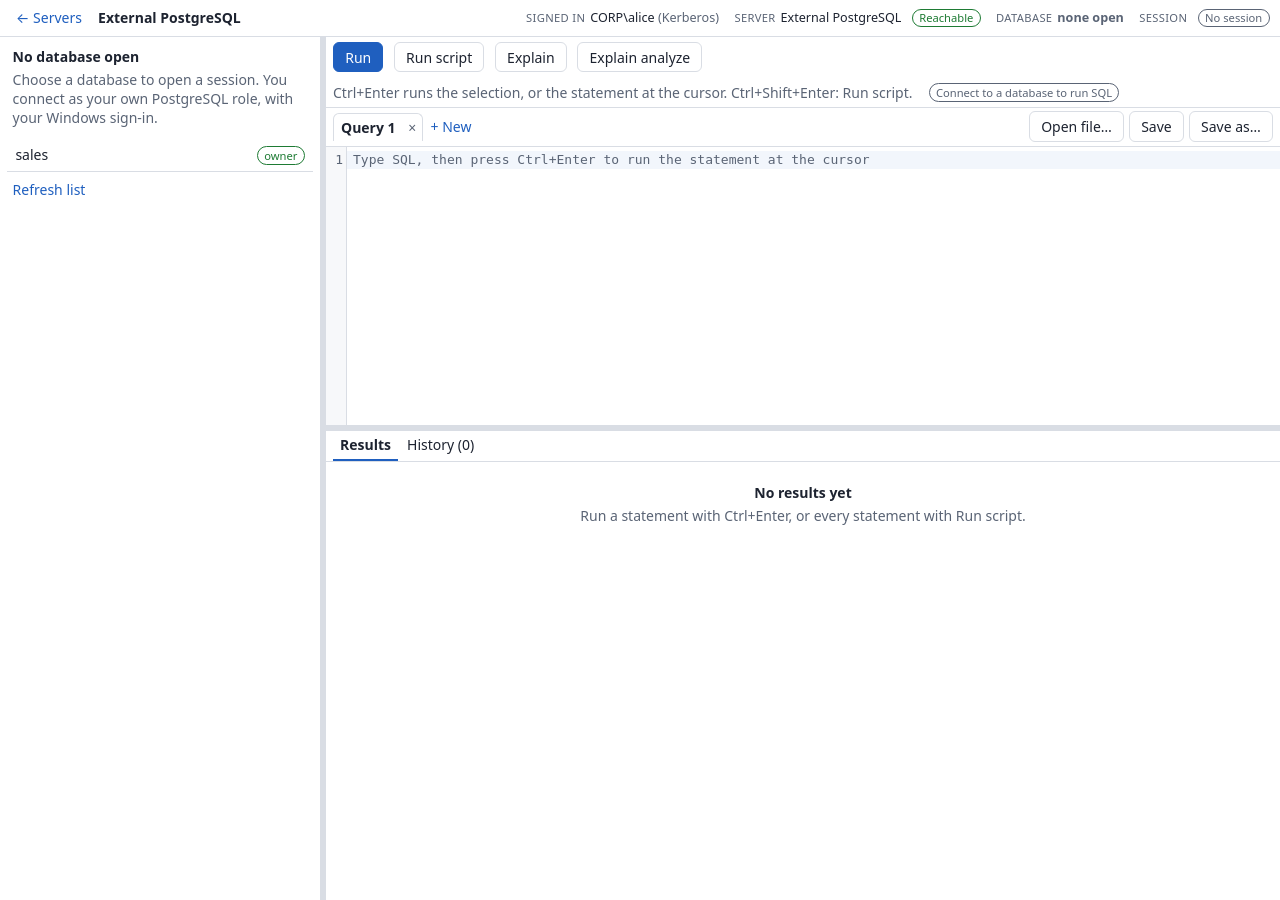
Workspace administration (admin Phase 3) › an EXPLAIN typed by the user is sent as written
Click the button "sales owner": (32, 155) [7, 139, 313, 172]
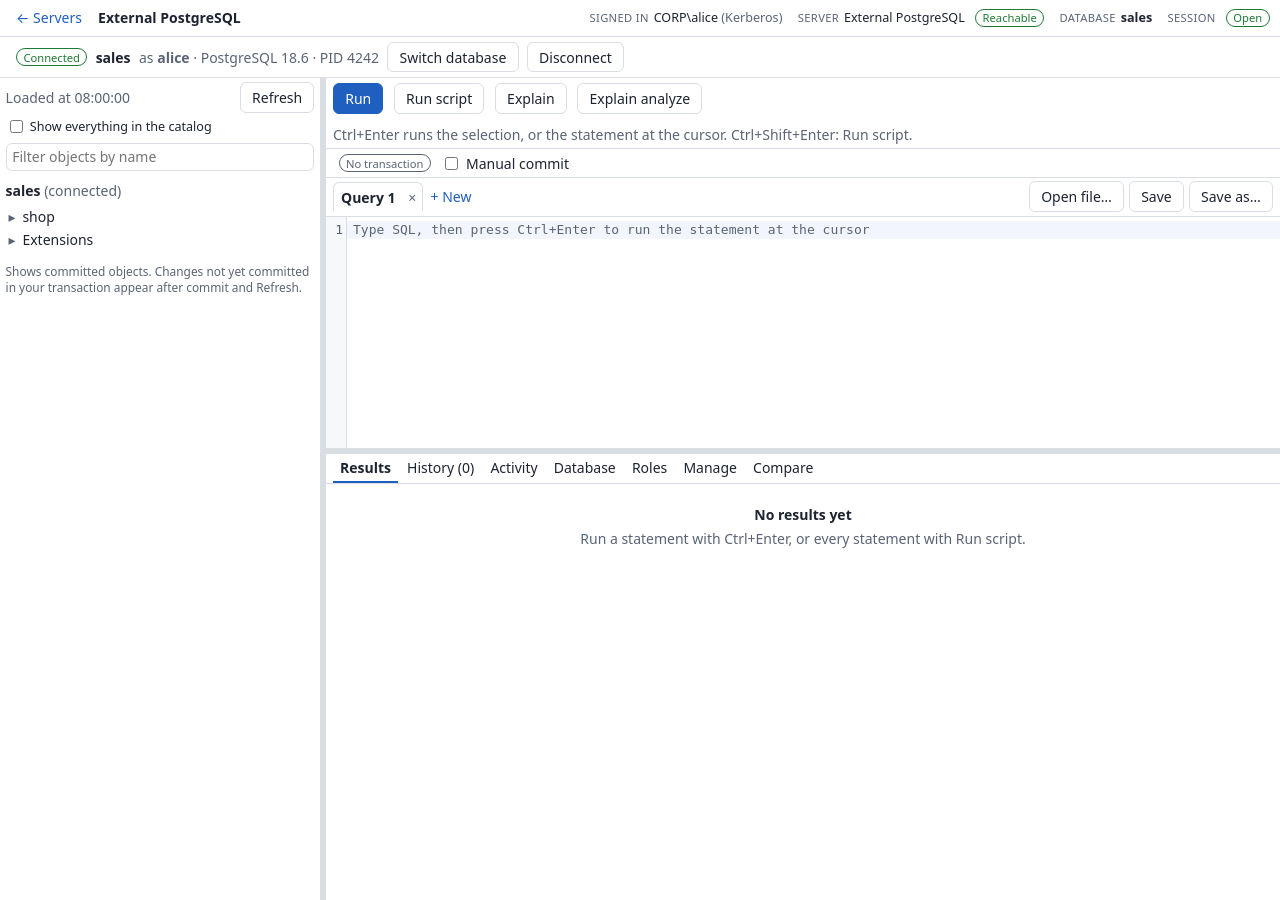
Now the button "Switch database" is shown, box [387, 42, 518, 72]
Click the field named "SQL editor": (814, 230) [347, 221, 1279, 239]
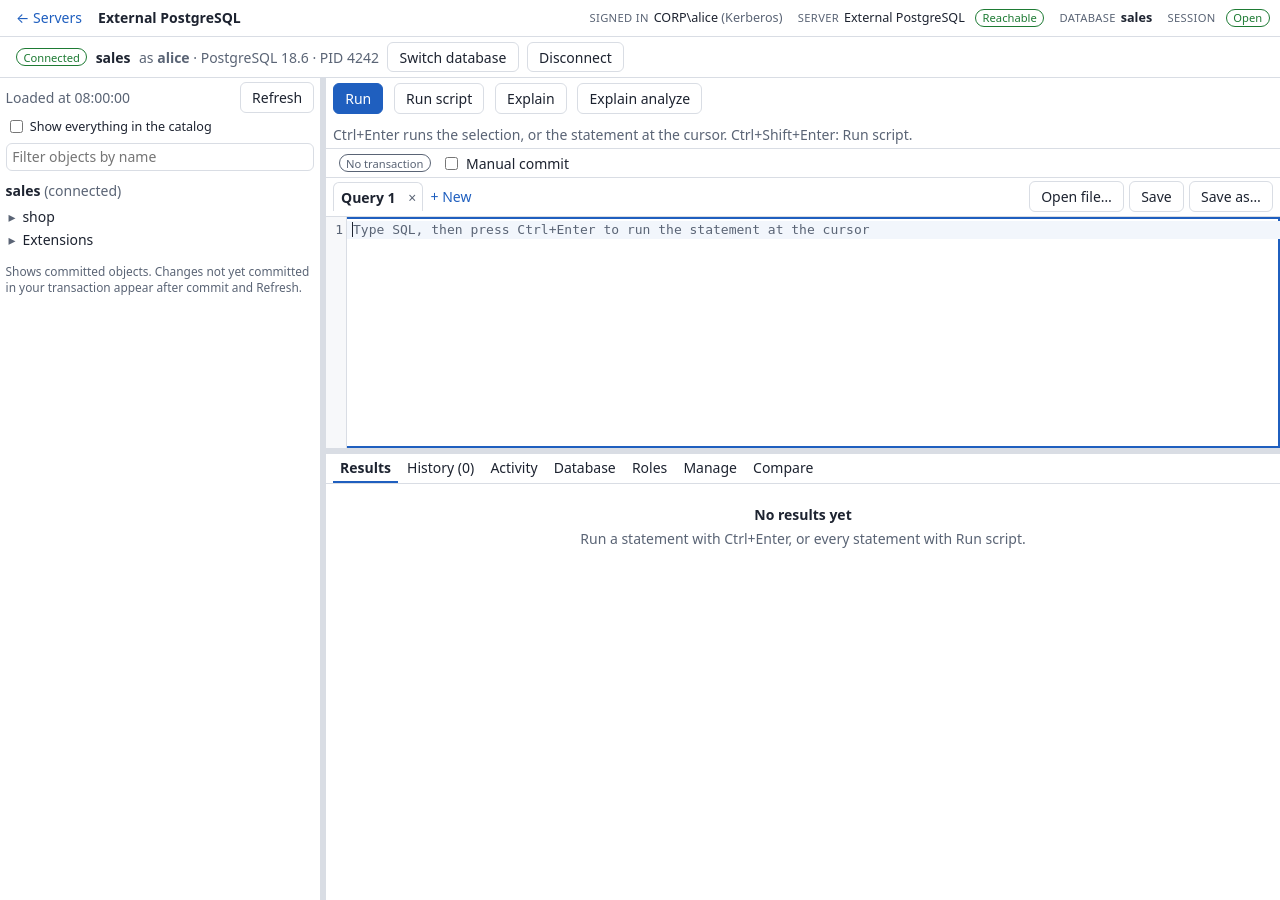
Type keys "explain select 1"
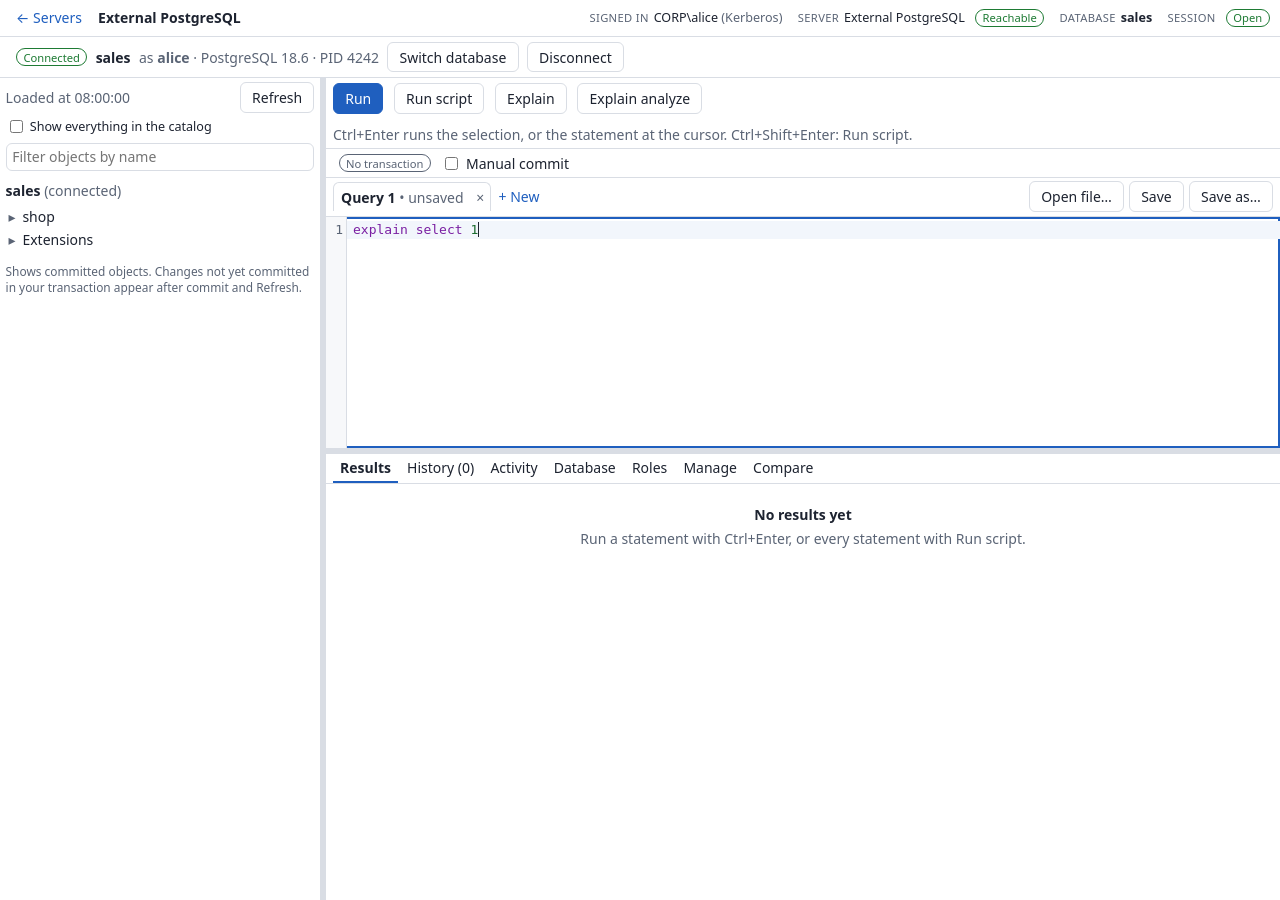
Click the button "Explain": (531, 99) [495, 83, 567, 114]
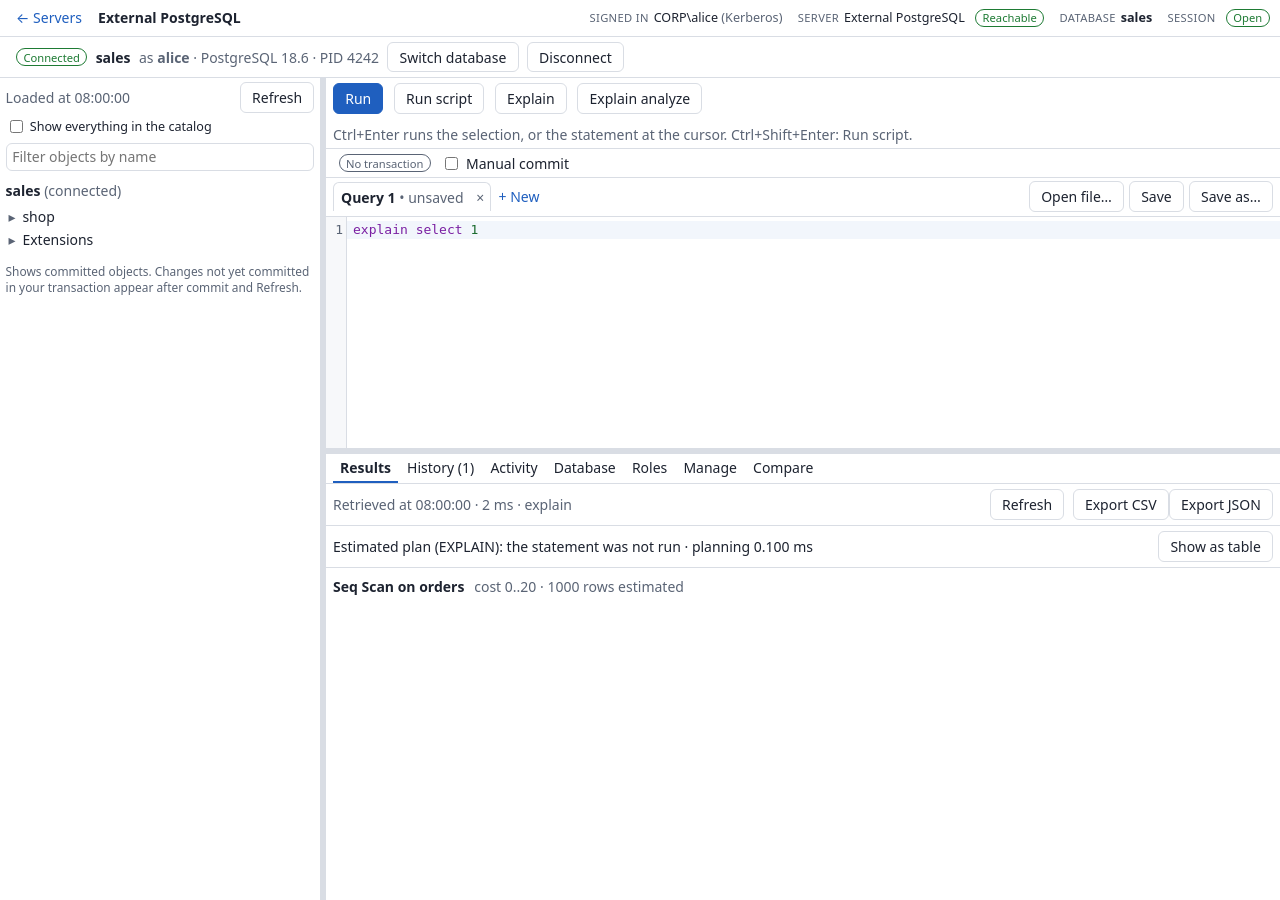
Now the text box labelled "explain select 1" is shown, box [347, 221, 1279, 239]
Now the list named "Query plan" is shown, box [333, 577, 684, 596]
